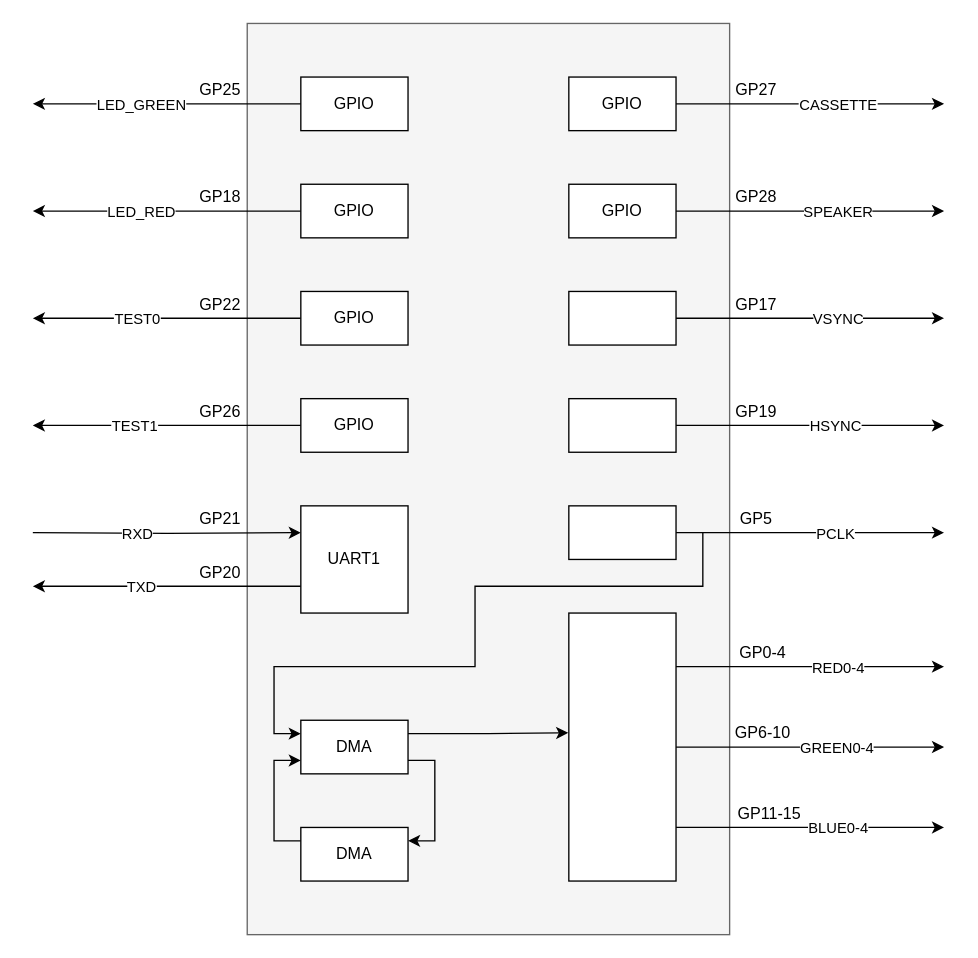
Image size: 978x958. Some labels were removed from this diagram. Each missing label, with the centre of its shape:
"PIO0 configured as 16-bit parallel port" goes at [621,746].
"PWM0B" goes at [621,317].
"PWM1B" goes at [621,424].
"PWM2B" goes at [621,532].
